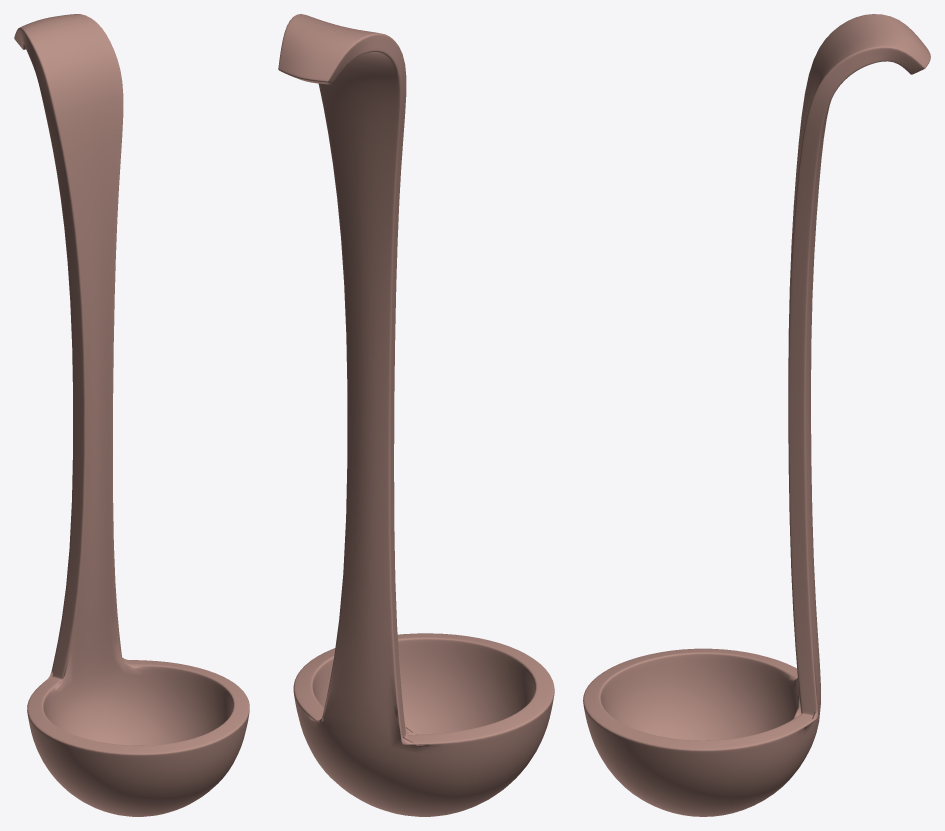
The model's file is spoon.fbx.
The picture shows the model from 3 angles, left to right: view 1: azimuth 30°, elevation 25°; view 2: azimuth 150°, elevation 25°; view 3: azimuth 270°, elevation 25°; orthographic projection. The views are drawn at different scales.
Visible parts, largest first — view 1: Roundcube.007; view 2: Roundcube.007; view 3: Roundcube.007.
Boxes of the visible parts, x1=… form: Roundcube.007: x1=14, y1=14, x2=249, y2=816; Roundcube.007: x1=278, y1=14, x2=554, y2=816; Roundcube.007: x1=583, y1=14, x2=930, y2=816.
Size of the model in its own units: 195 by 693 by 282.
